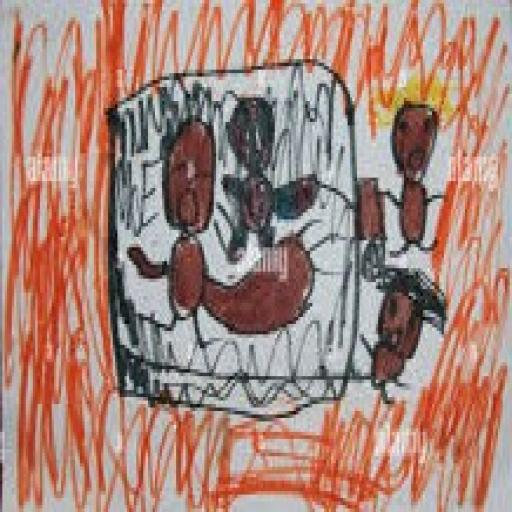person: (122, 94, 219, 373), (208, 84, 320, 267), (364, 264, 454, 412), (388, 80, 452, 263)
